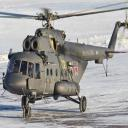helicopter: (3, 2, 128, 121)
